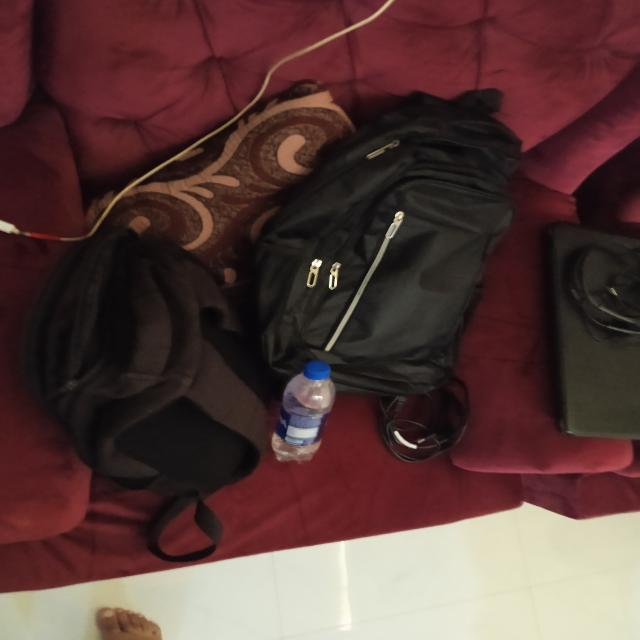Plastic: (272, 362, 336, 462)
